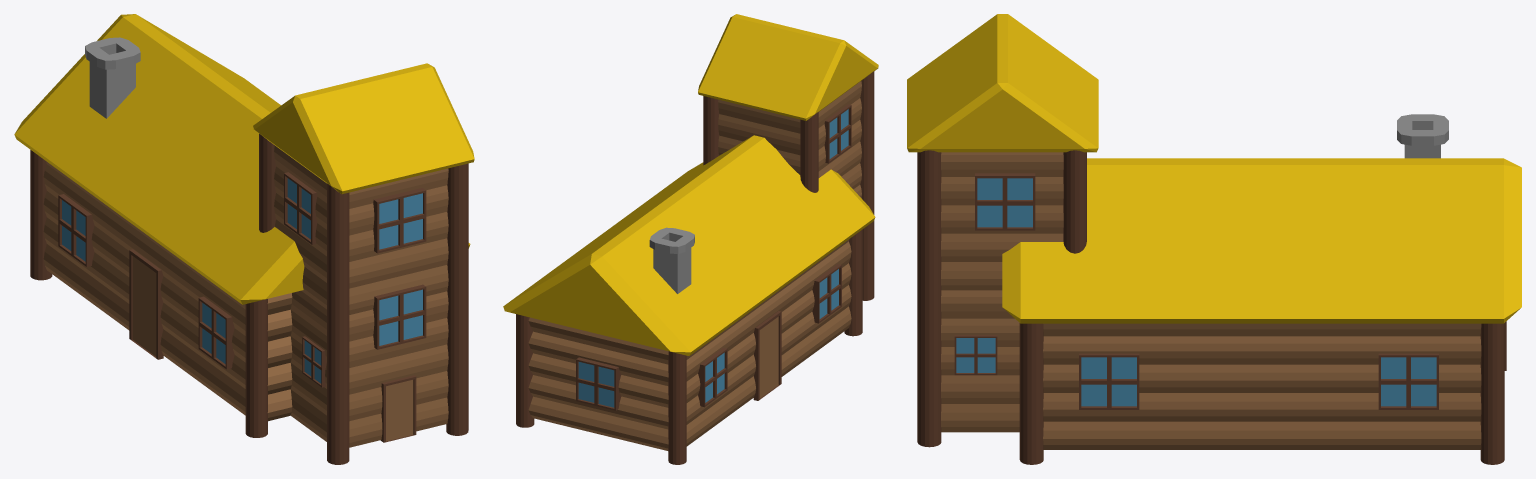
The model's file is HighHouse.dae.
The picture shows the model from 3 angles, left to right: view 1: azimuth 30°, elevation 25°; view 2: azimuth 150°, elevation 25°; view 3: azimuth 270°, elevation 25°; orthographic projection. The views are drawn at different scales.
Parts seen in each view (by area): view 1: Cube.001; view 2: Cube.001; view 3: Cube.001.
Part boxes in pixels (bbox=[...]): Cube.001: bbox=[14, 14, 474, 464]; Cube.001: bbox=[503, 14, 878, 464]; Cube.001: bbox=[907, 14, 1521, 464].
Bounding box in the file's own units: 2.46 × 5.34 × 3.47.
1 material, 1 textured.
